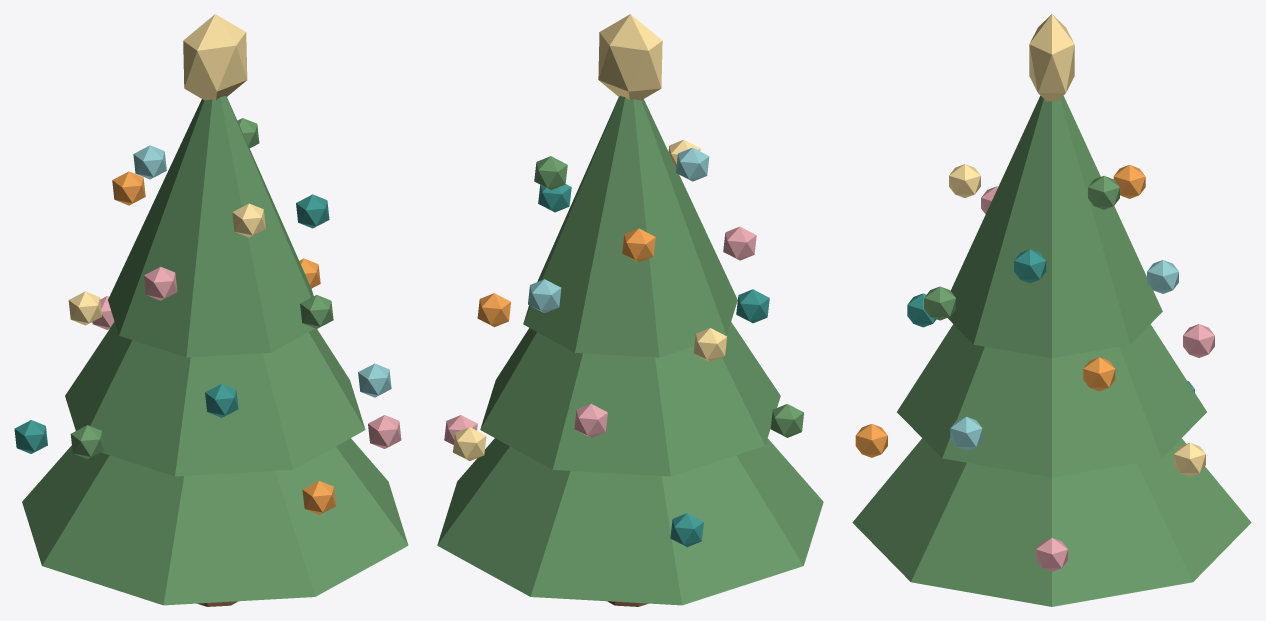
The model's file is pine_decorated.glb.
The picture shows the model from 3 angles, left to right: view 1: azimuth 30°, elevation 25°; view 2: azimuth 150°, elevation 25°; view 3: azimuth 270°, elevation 25°; orthographic projection.
Visible parts, largest first — view 1: pine, pine.002, pine.001, star, ornament.009, ornament.002, ornament.014, ornament.015, ornament, ornament.001, ornament.004, ornament.005 (+5 smaller); view 2: pine, pine.002, pine.001, star, ornament.008, ornament.001, ornament.006, ornament.007, ornament.012, ornament.014, ornament.017, ornament.016 (+5 smaller); view 3: pine, pine.002, pine.001, star, ornament.003, ornament.005, ornament.013, ornament.002, ornament.008, ornament, ornament.006, ornament.011 (+5 smaller).
Part boxes in pixels (box(x1,y1,x2,y2)): pine: box(22, 438, 408, 605); pine.002: box(108, 96, 314, 357); pine.001: box(65, 322, 365, 476); star: box(183, 14, 247, 100); ornament.009: box(68, 291, 102, 325); ornament.002: box(302, 480, 335, 514); ornament.014: box(112, 171, 145, 205); ornament.015: box(232, 203, 265, 237); ornament: box(368, 415, 401, 448); ornament.001: box(14, 420, 47, 453); ornament.004: box(70, 425, 104, 459); ornament.005: box(358, 363, 391, 397); pine: box(437, 438, 823, 605); pine.002: box(523, 96, 737, 357); pine.001: box(480, 322, 780, 476); star: box(598, 14, 662, 100); ornament.008: box(477, 293, 510, 327); ornament.001: box(670, 513, 703, 547); ornament.006: box(574, 404, 607, 437); ornament.007: box(736, 289, 769, 323); ornament.012: box(723, 226, 756, 260); ornament.014: box(622, 228, 655, 262); ornament.017: box(676, 147, 709, 181); ornament.016: box(534, 156, 567, 189); pine: box(852, 438, 1251, 606); pine.002: box(948, 95, 1162, 358); pine.001: box(897, 324, 1206, 477); star: box(1029, 14, 1074, 101); ornament.003: box(1173, 442, 1205, 476); ornament.005: box(950, 416, 982, 450); ornament.013: box(1014, 249, 1046, 283); ornament.002: box(855, 424, 887, 457); ornament.008: box(1083, 357, 1115, 391); ornament: box(1036, 538, 1067, 571); ornament.006: box(1183, 324, 1214, 357); ornament.011: box(1147, 260, 1178, 293).
Bounding box in the file's own units: 1.86 × 2.88 × 1.8.
